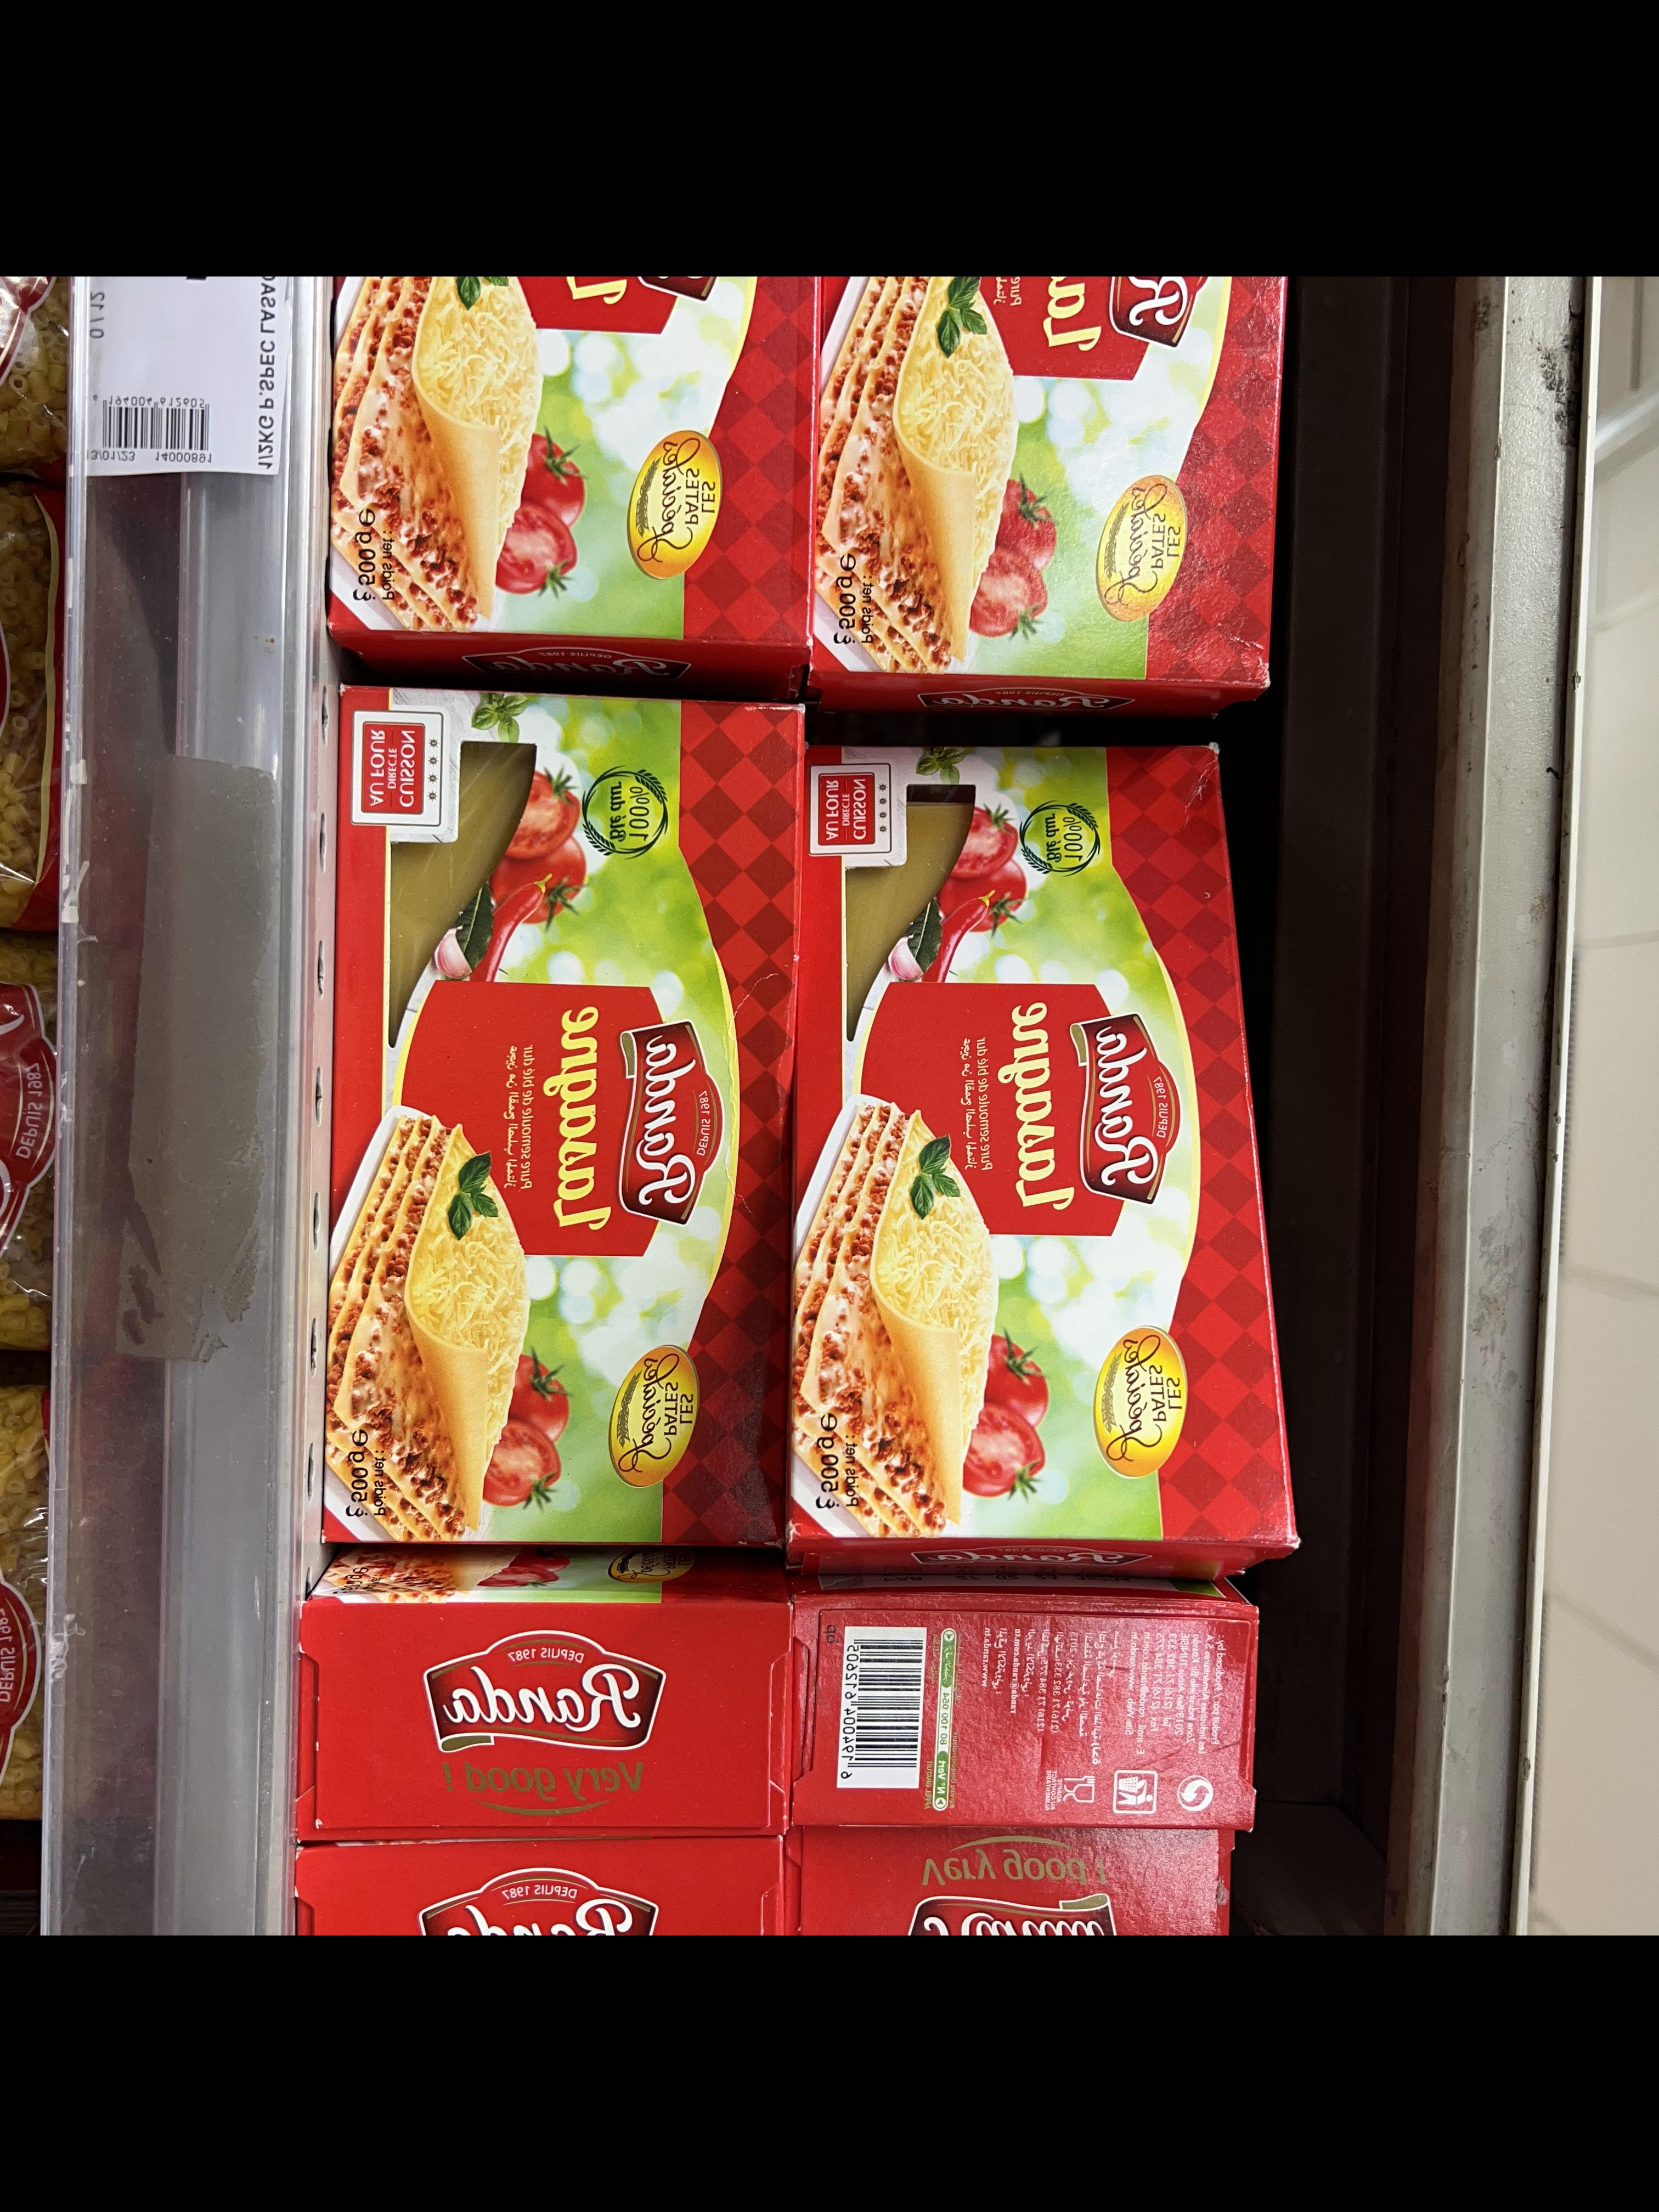lasagne: (1349, 1310, 1629, 1759), (1115, 1291, 1361, 1777), (1110, 1092, 1391, 1308), (1363, 1094, 1619, 1327)
